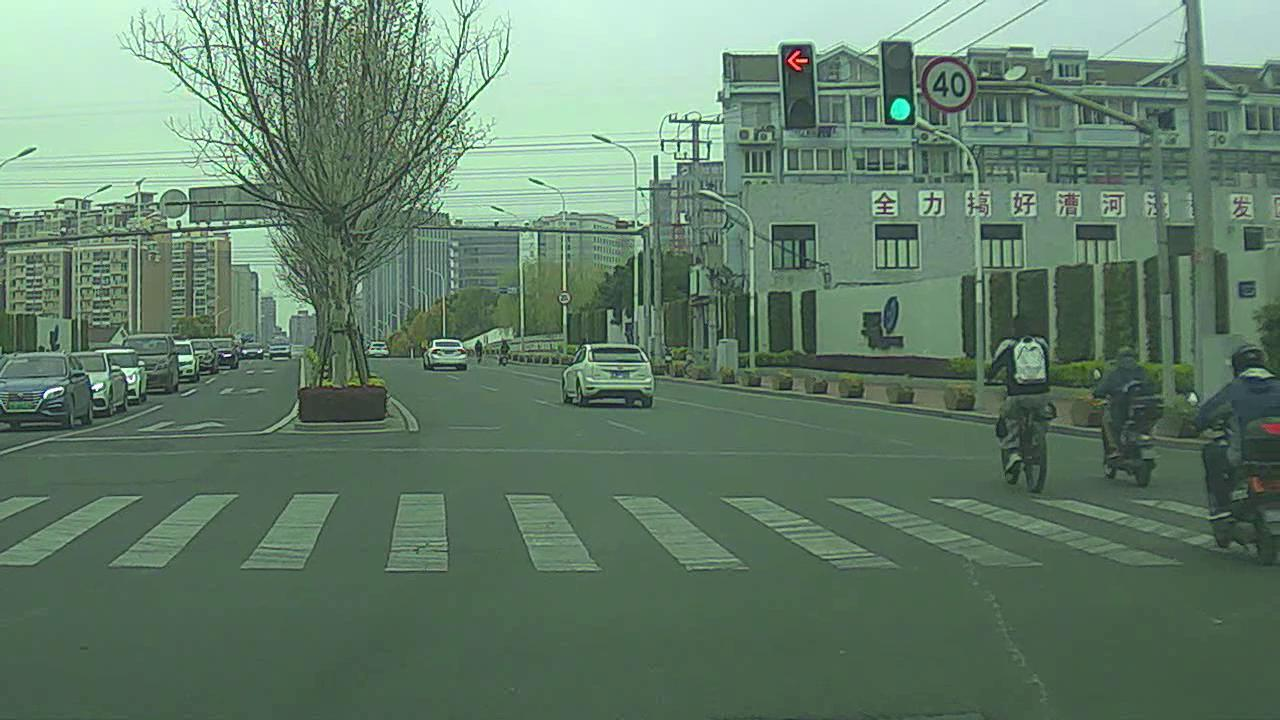traffic_light: (782, 41, 821, 127), (880, 38, 917, 127)
